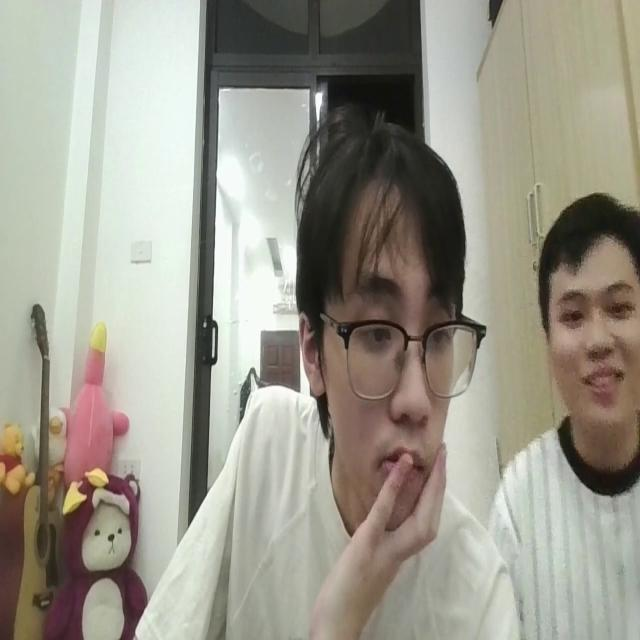extra_person: (496, 188, 640, 640)
student: (126, 110, 520, 640)
